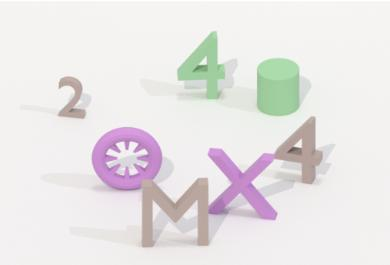0-KhoiTru: (252, 53, 303, 119)
0-TronLo: (87, 120, 166, 192)
2: (53, 71, 88, 124)
4: (170, 26, 230, 104), (273, 112, 327, 189)
M: (139, 174, 212, 251)
X: (204, 141, 281, 226)
